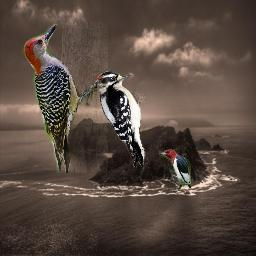Woodpecker: (19, 22, 108, 173), (97, 71, 146, 168), (159, 149, 191, 189)
